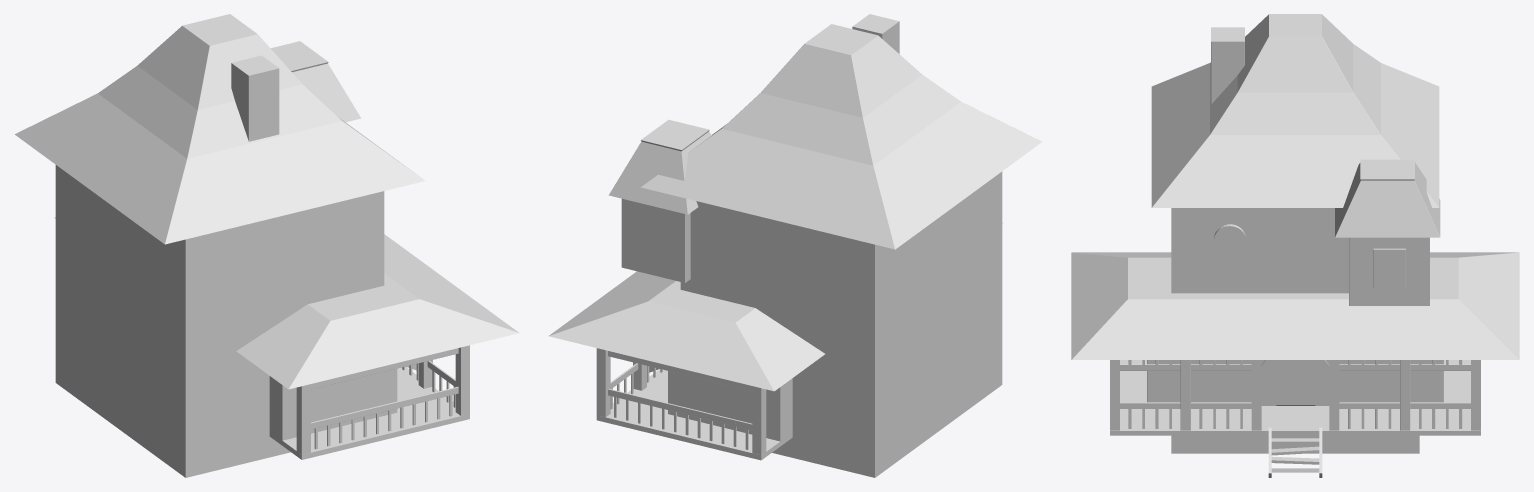
The model's file is MonsieurHouse.fbx.
3 views of the same model, side by side, from view 1: azimuth 30°, elevation 25°; view 2: azimuth 150°, elevation 25°; view 3: azimuth 270°, elevation 25° (orthographic). The views are drawn at different scales.
Parts seen in each view (by area): view 1: Howse, Fence; view 2: Howse; view 3: Howse, Fence, Stairs.
Boxes of the visible parts, left/top/right/bottom form: Howse: left=15, top=14, right=518, bottom=477; Fence: left=402, top=360, right=455, bottom=407; Howse: left=548, top=14, right=1042, bottom=477; Howse: left=1071, top=14, right=1519, bottom=453; Fence: left=1120, top=360, right=1470, bottom=428; Stairs: left=1268, top=427, right=1322, bottom=477.
Size of the model in its own units: 2131 by 2377 by 2656.
